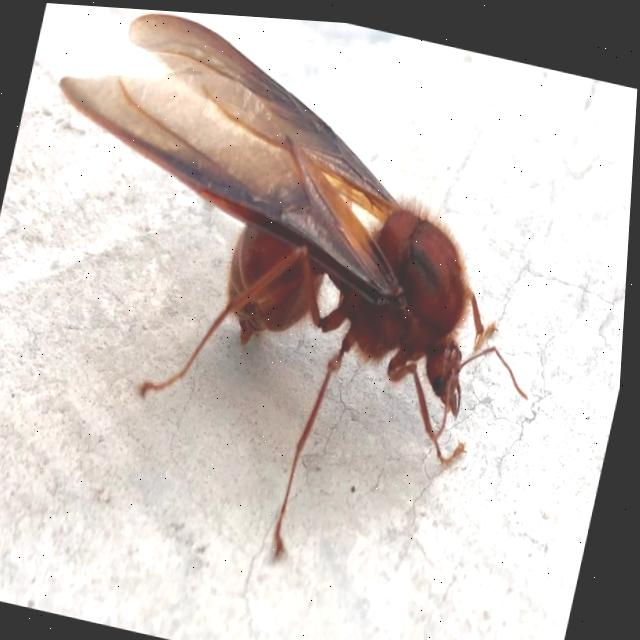Alive-Male-Alate: (0, 0, 596, 607)
